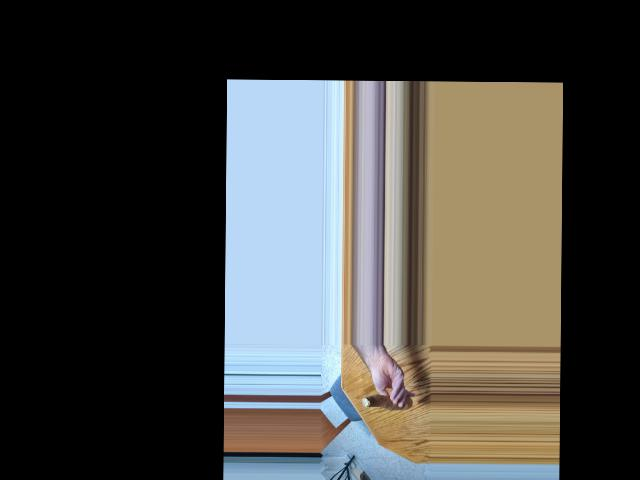sweet_potato: (367, 395, 408, 415)
